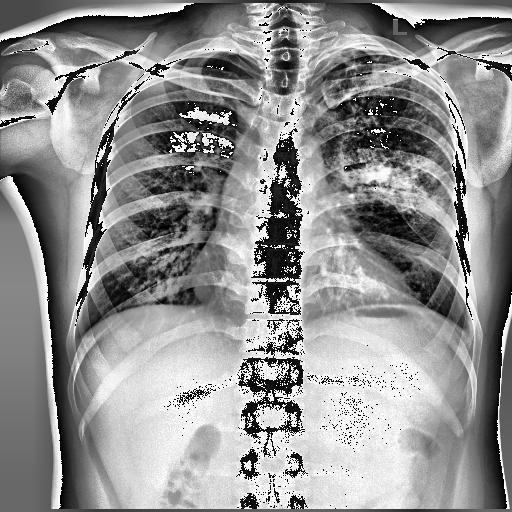13- Pulmonary fibrosis: (310, 48, 456, 228), (316, 48, 460, 221)
3- Cardiomegaly: (190, 248, 413, 312)
4- Consolidation: (316, 48, 460, 221)
5- ILD: (310, 48, 456, 228), (310, 48, 452, 225)
6- Infiltration: (310, 48, 452, 225), (316, 48, 460, 221)
